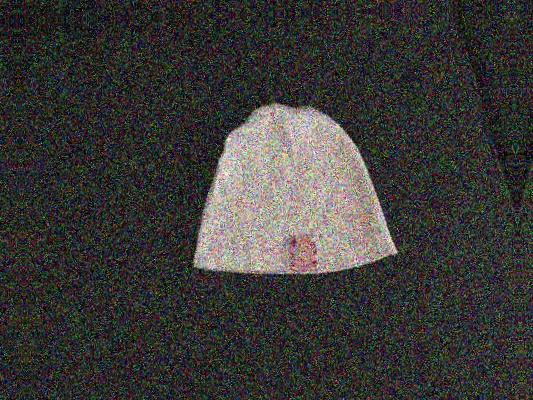Hat: (188, 70, 407, 290)
